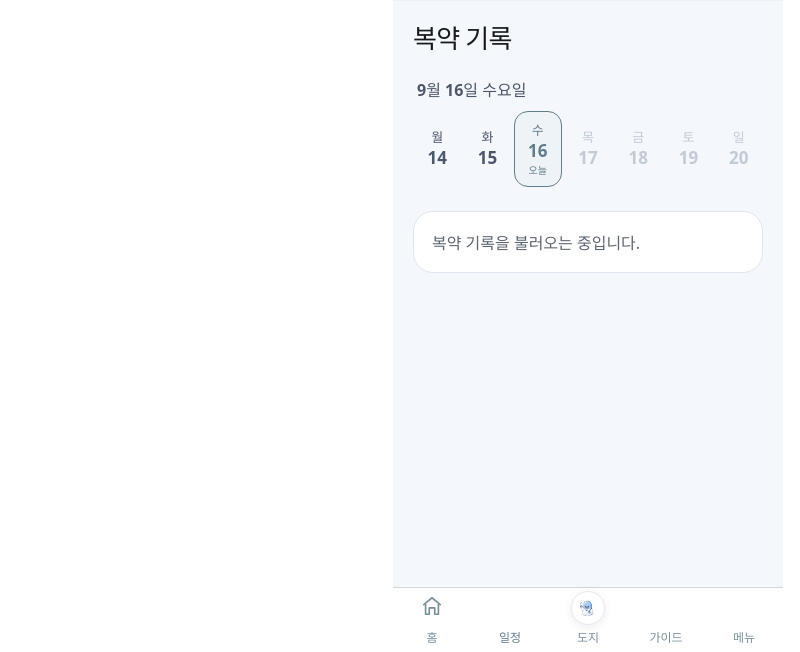
RECORD-01 복약 기록 › 과거 날짜를 선택하면 해당 date로 다시 조회한다
Expected: the heading "복약 기록" is shown, [413,20,512,56]
What coordinates should you click on to do the following:
click the button "월 14"
I would click on:
 (437, 149)
Its box is [413,111,461,187].
(page scrolled)
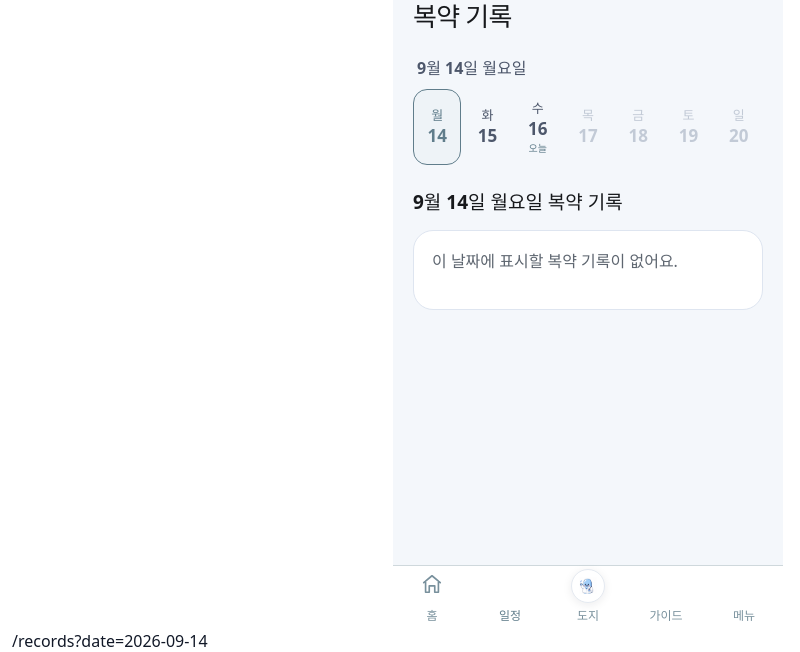
Result: the text with test id "location" reads "/records?date=2026-09-14" at [12,630,208,651]
